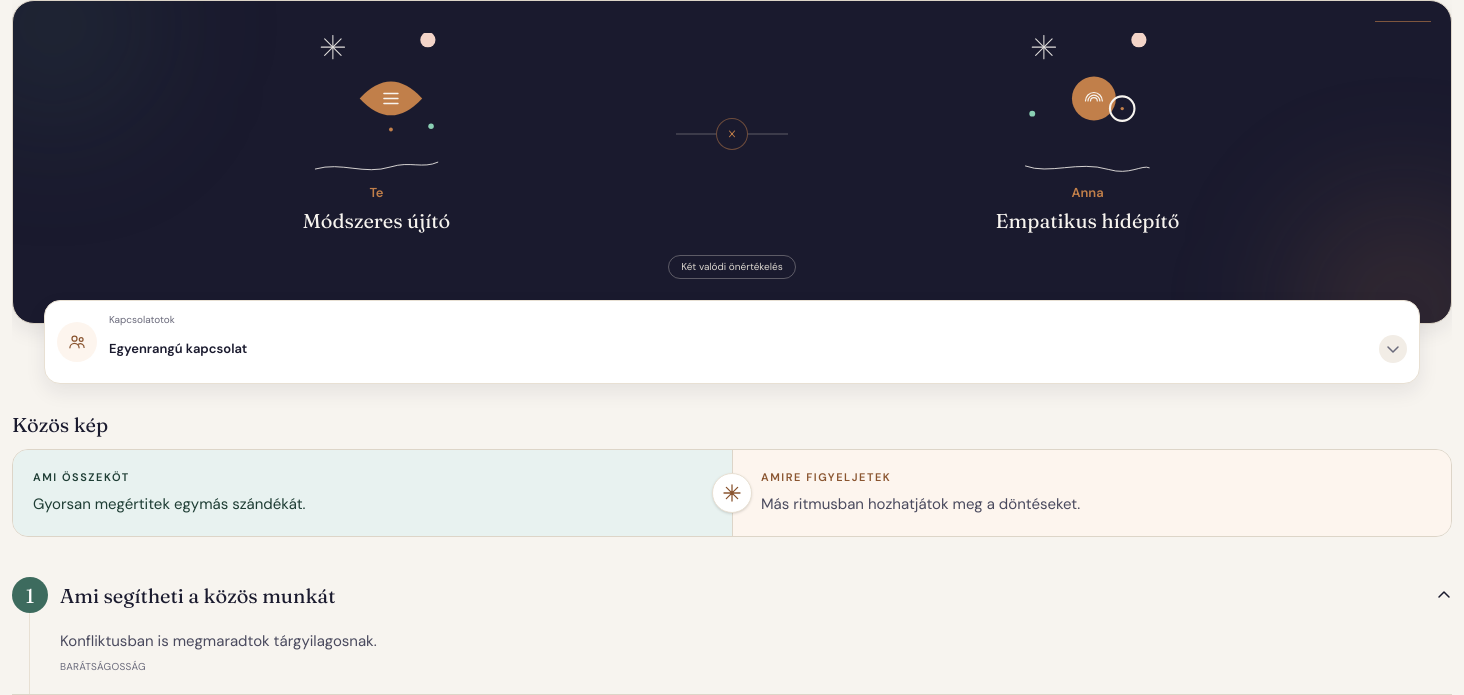
it: PairInteractionView › névvel egyértelműsíti a vezetői irányt és megmutatja a kapcsolódó jegyzetet
This screenshot has width=1464, height=695.
Click the button named "Kapcsolatotok Egyenrangú kapcsolat": point(178, 348) [109,327,1407,371]
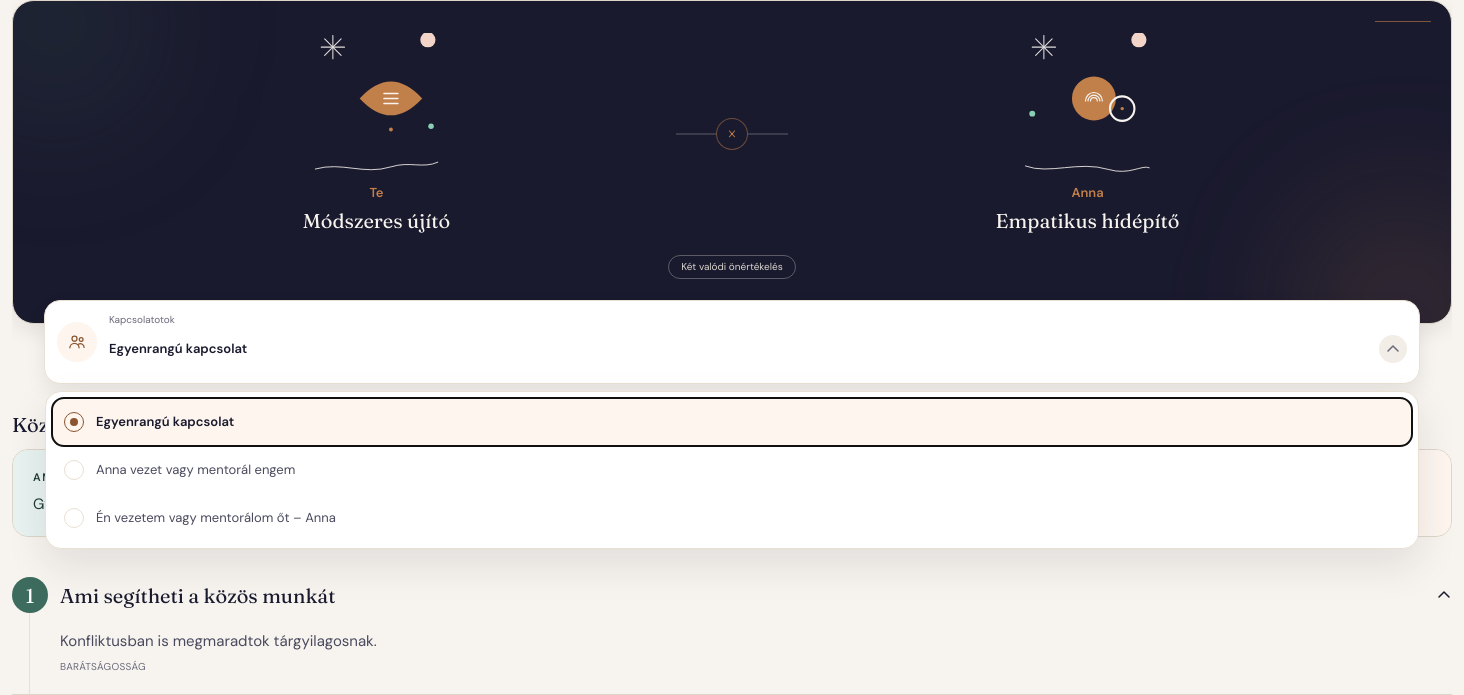
Now the list named "Kapcsolatotok" is shown, box [45,391,1419,549]
Click the option "Anna vezet vagy mentorál engem": point(196, 469) [52,446,1412,494]
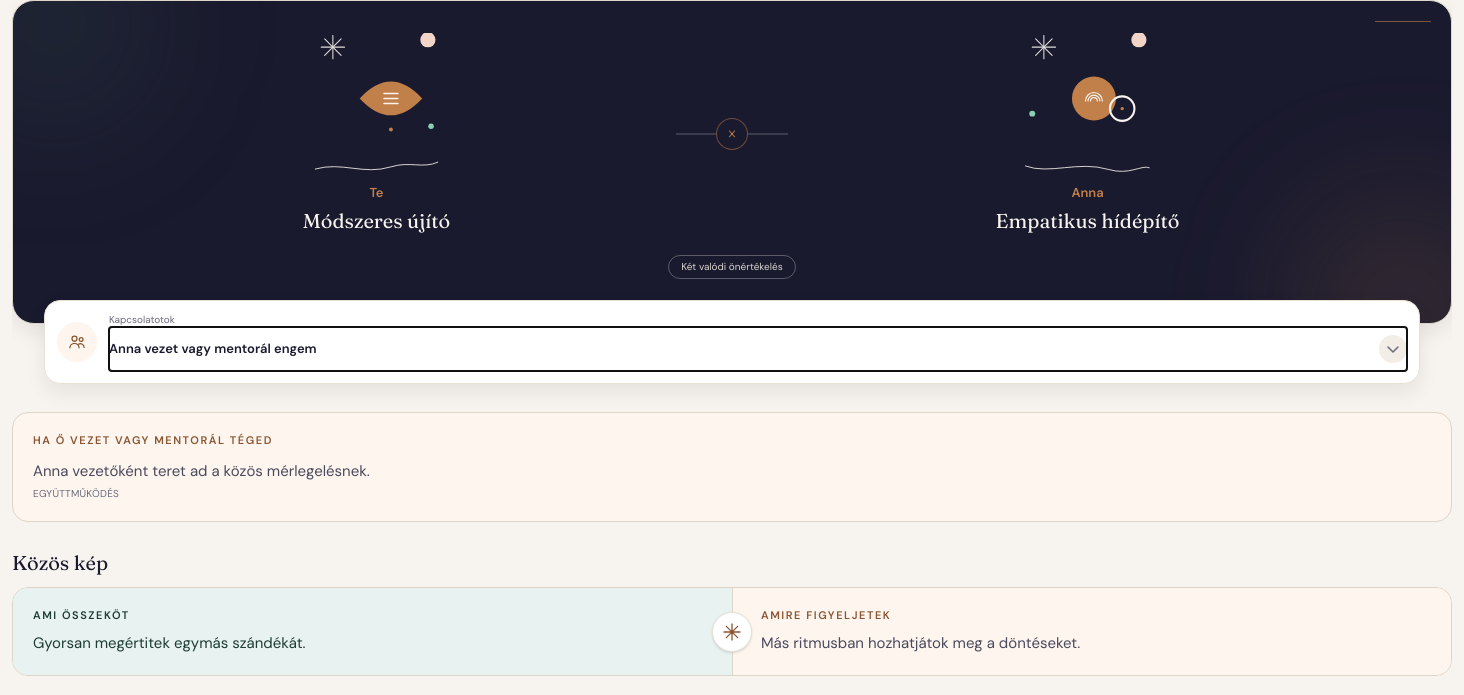
Now the text "Anna vezetőként teret ad a közös mérlegelésnek." is shown, box [33,461,370,481]
